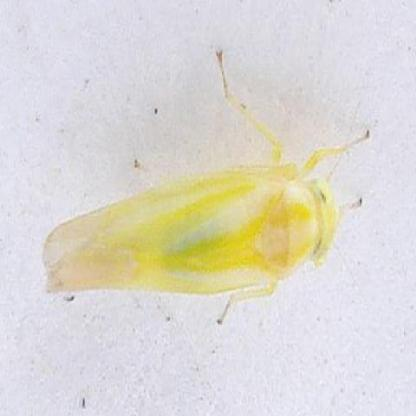green-leafhopper: (38, 146, 344, 310)
